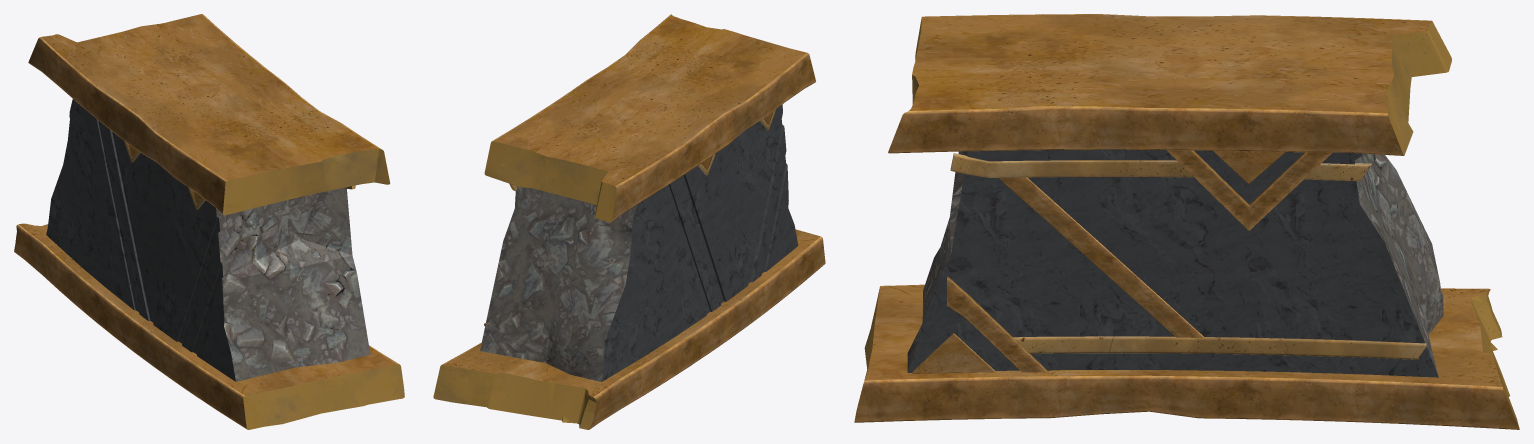
3 views of the same model, side by side, from view 1: azimuth 30°, elevation 25°; view 2: azimuth 150°, elevation 25°; view 3: azimuth 270°, elevation 25° (orthographic). The views are drawn at different scales.
Visible parts, largest first — view 1: SM_Kuldras_Arena_RingPiece_09_LOD0; view 2: SM_Kuldras_Arena_RingPiece_09_LOD0; view 3: SM_Kuldras_Arena_RingPiece_09_LOD0.
Part boxes in pixels (box(x1,y1,x2,y2)): SM_Kuldras_Arena_RingPiece_09_LOD0: box(14, 14, 404, 429); SM_Kuldras_Arena_RingPiece_09_LOD0: box(433, 14, 825, 429); SM_Kuldras_Arena_RingPiece_09_LOD0: box(854, 14, 1519, 429).
Bounding box in the file's own units: 8.63 × 11.4 × 22.18.
Materials: 4 (4 with a texture image).
